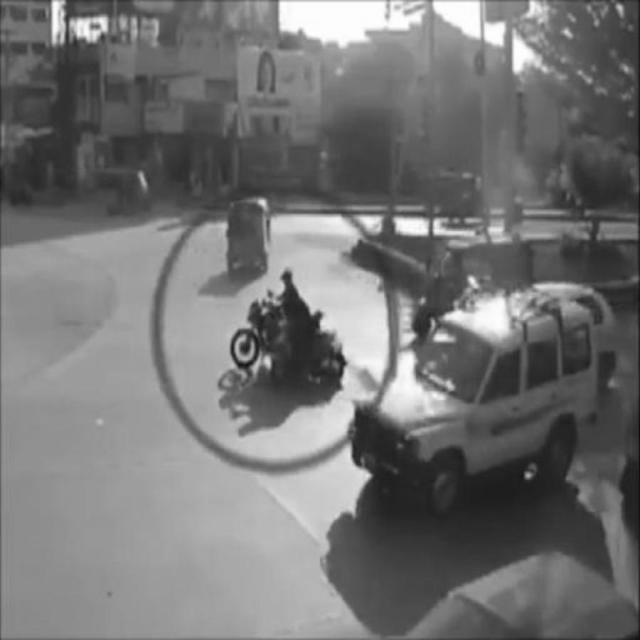accident: (230, 267, 346, 389)
vehicle: (351, 284, 599, 515), (226, 198, 270, 280)
